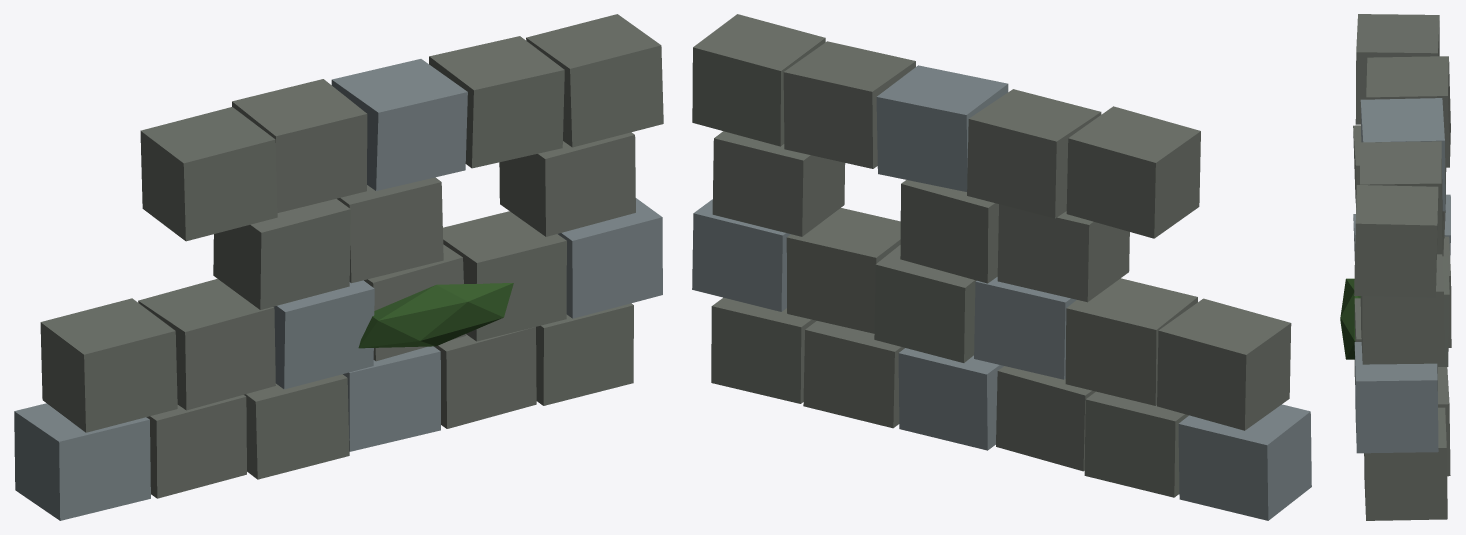
Rendered from ruin_wall_c.glb.
3 renders of one model, left to right at view 1: azimuth 30°, elevation 25°; view 2: azimuth 150°, elevation 25°; view 3: azimuth 270°, elevation 25°, orthographic. The views are drawn at different scales.
Parts seen in each view (by area): view 1: Block_1_0.002, Block_3_1.001, Block_0_0.002, Block_3_3.002, Block_3_5, Block_3_4, Block_3_2, Block_1_1.002, Block_2_2.001, Block_2_5.001, Block_1_4.002, Block_1_5.002 (+9 smaller); view 2: Block_3_1.001, Block_1_0.002, Block_0_0.002, Block_3_2, Block_3_5, Block_3_4, Block_3_3.002, Block_1_1.002, Block_2_5.001, Block_1_4.002, Block_2_2.001, Block_1_3.002 (+8 smaller); view 3: Block_3_5, Block_1_5.002, Block_0_5.002, Block_2_5.001, Block_3_1.001, Block_3_4, Block_3_2, Block_3_3.002, Moss.002, Block_0_4.002, Block_1_3.002, Block_2_2.001 (+3 smaller).
Boxes of the visible parts, x1,y1,x2,y2 form: Block_1_0.002: (40, 298, 177, 432); Block_3_1.001: (140, 107, 277, 241); Block_0_0.002: (14, 403, 150, 520); Block_3_3.002: (331, 59, 467, 190); Block_3_5: (526, 14, 663, 147); Block_3_4: (429, 36, 564, 168); Block_3_2: (232, 79, 367, 212); Block_1_1.002: (138, 279, 275, 410); Block_2_2.001: (213, 198, 350, 309); Block_2_5.001: (499, 132, 635, 236); Block_1_4.002: (443, 211, 566, 341); Block_1_5.002: (558, 198, 662, 318); Block_3_1.001: (1066, 106, 1200, 238); Block_1_0.002: (1157, 298, 1291, 430); Block_0_0.002: (1178, 404, 1311, 520); Block_3_2: (967, 89, 1101, 218); Block_3_5: (692, 14, 825, 146); Block_3_4: (783, 41, 915, 168); Block_3_3.002: (876, 65, 1008, 191); Block_1_1.002: (1065, 278, 1197, 405); Block_2_5.001: (712, 131, 845, 236); Block_1_4.002: (786, 208, 900, 333); Block_2_2.001: (997, 204, 1129, 302); Block_1_3.002: (874, 245, 976, 362); Block_3_5: (1354, 185, 1438, 297); Block_1_5.002: (1354, 342, 1438, 453); Block_0_5.002: (1364, 407, 1447, 520); Block_2_5.001: (1360, 254, 1444, 364); Block_3_1.001: (1355, 14, 1439, 124); Block_3_4: (1360, 141, 1442, 254); Block_3_2: (1366, 56, 1450, 167); Block_3_3.002: (1360, 98, 1445, 211); Moss.002: (1340, 278, 1360, 359); Block_0_4.002: (1438, 367, 1450, 476); Block_1_3.002: (1438, 256, 1449, 366); Block_2_2.001: (1353, 125, 1361, 207).
Size of the model in its own units: 4.47 by 2.41 by 0.7886.
